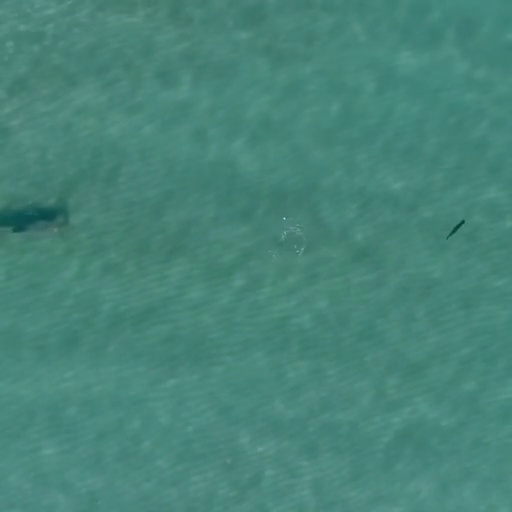shark: (4, 199, 70, 238)
